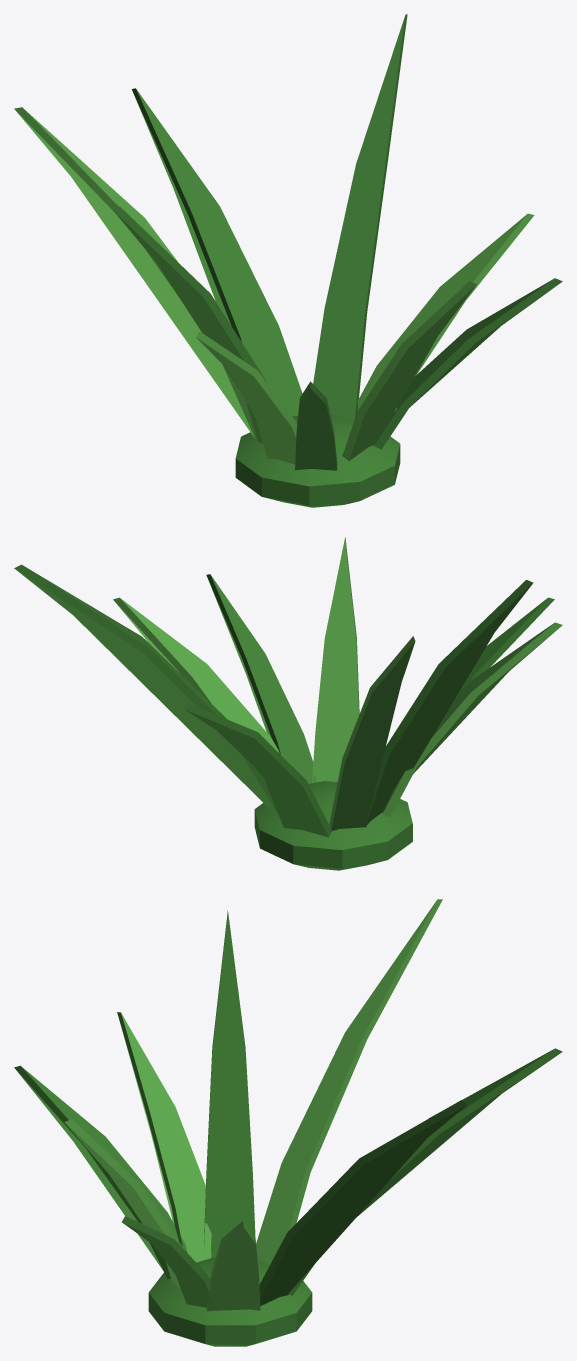
Rendered from grass_tuft.fbx.
3 views of the same model, one above another, from view 1: azimuth 30°, elevation 25°; view 2: azimuth 150°, elevation 25°; view 3: azimuth 270°, elevation 25° (orthographic). The views are drawn at different scales.
Visible parts, largest first — view 1: GrassTuft; view 2: GrassTuft; view 3: GrassTuft.
Part boxes in pixels (bbox=[...]): GrassTuft: bbox=[14, 14, 562, 507]; GrassTuft: bbox=[14, 537, 562, 870]; GrassTuft: bbox=[14, 899, 562, 1346].
Bounding box in the file's own units: 0.101 × 0.0792 × 0.1149.
Materials: 1 (1 with a texture image).
